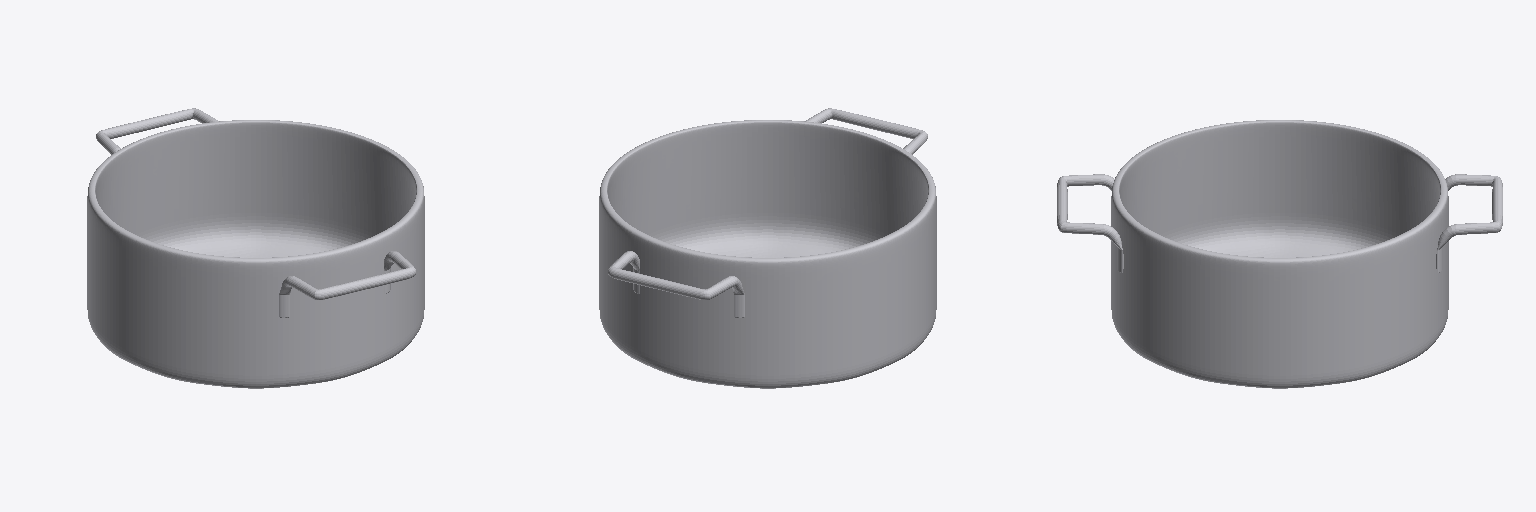
Rendered from cacerola.obj.
3 views of the same model, side by side, from view 1: azimuth 30°, elevation 25°; view 2: azimuth 150°, elevation 25°; view 3: azimuth 270°, elevation 25° (orthographic).
Visible parts, largest first — view 1: cacerola_Cylinder.001; view 2: cacerola_Cylinder.001; view 3: cacerola_Cylinder.001.
Boxes of the visible parts, x1=… form: cacerola_Cylinder.001: x1=87, y1=108, x2=424, y2=388; cacerola_Cylinder.001: x1=599, y1=108, x2=936, y2=388; cacerola_Cylinder.001: x1=1057, y1=120, x2=1502, y2=388.
Bounding box in the file's own units: 0.4586 × 0.1997 × 0.6075.